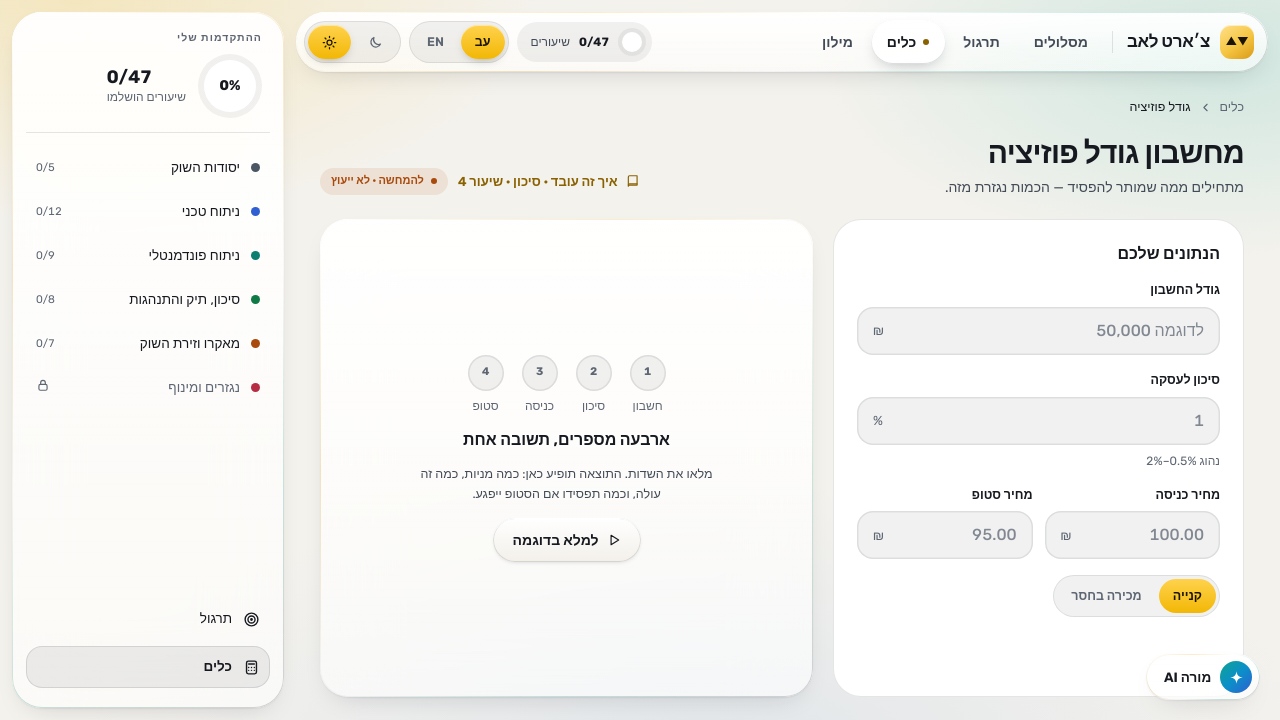
Scenario: calculators compute live, with no submit step › position size: empty until four numbers, the design example gives 100 shares
The image size is (1280, 720).
Click the button "למלא בדוגמה" at (566, 540), box [492,518,640,562]
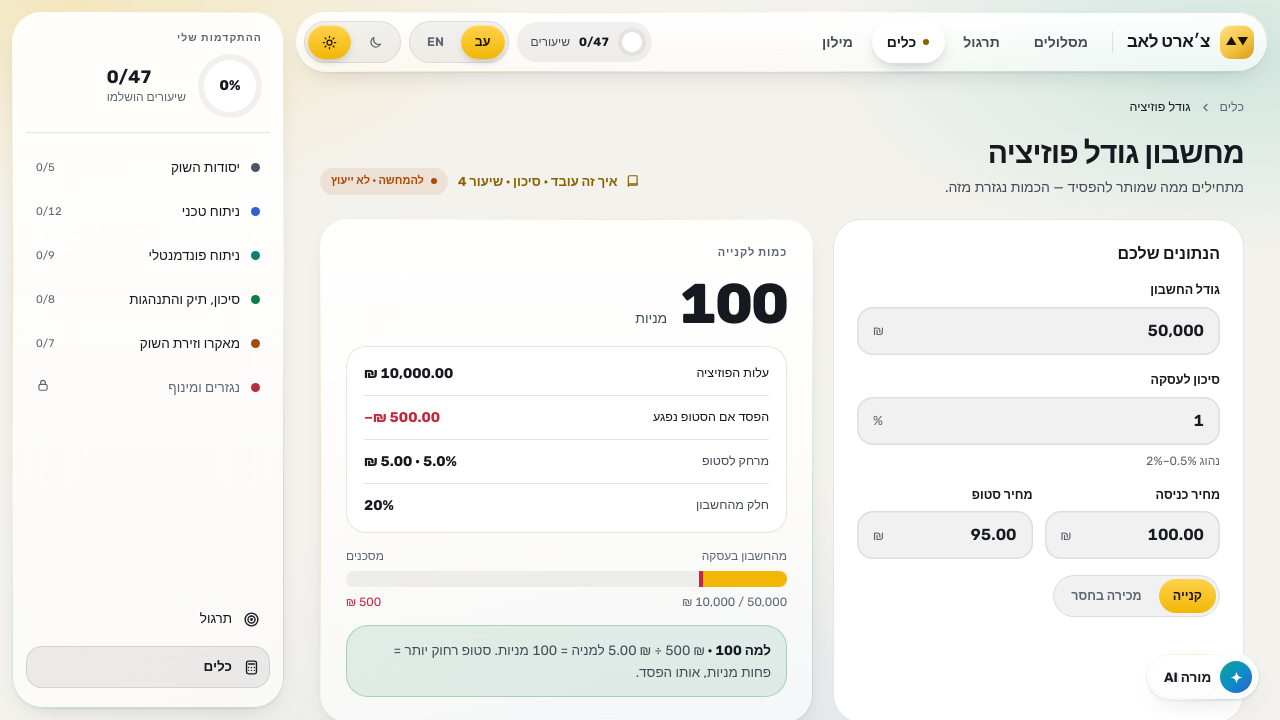
Now the text with test id "tool-headline" reads "100", box [679,271,787,337]
